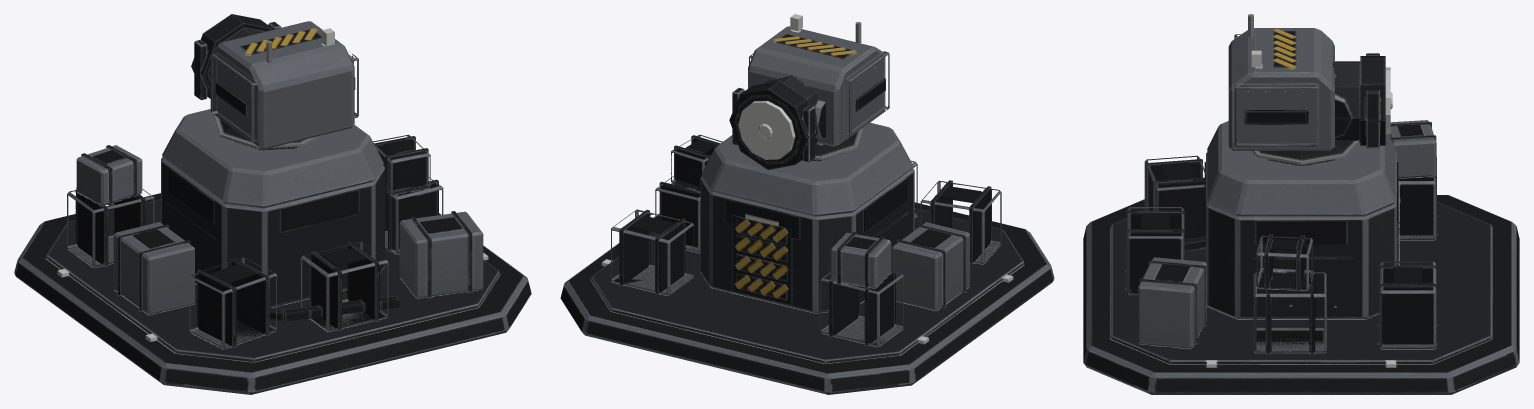
Rendered from chs_nano.fbx.
3 views of the same model, side by side, from view 1: azimuth 30°, elevation 25°; view 2: azimuth 150°, elevation 25°; view 3: azimuth 270°, elevation 25° (orthographic). The views are drawn at different scales.
Visible parts, largest first — view 1: base_bar, turret_bar, nano_bar; view 2: base_bar, turret_bar, nano_bar, nano_glow_power_bar; view 3: base_bar, turret_bar, nano_bar, nano_glow_power_bar.
Boxes of the visible parts, x1,y1,x2,y2 form: base_bar: [14, 109, 531, 394]; turret_bar: [210, 21, 358, 149]; nano_bar: [191, 14, 281, 100]; base_bar: [560, 122, 1054, 394]; turret_bar: [748, 22, 889, 160]; nano_bar: [729, 75, 825, 169]; nano_glow_power_bar: [738, 101, 795, 159]; base_bar: [1083, 120, 1519, 394]; turret_bar: [1228, 14, 1360, 165]; nano_bar: [1332, 53, 1385, 148]; nano_glow_power_bar: [1385, 67, 1390, 134].
Size of the model in its own units: 1555 by 1280 by 1555.
2 materials, 2 textured.
